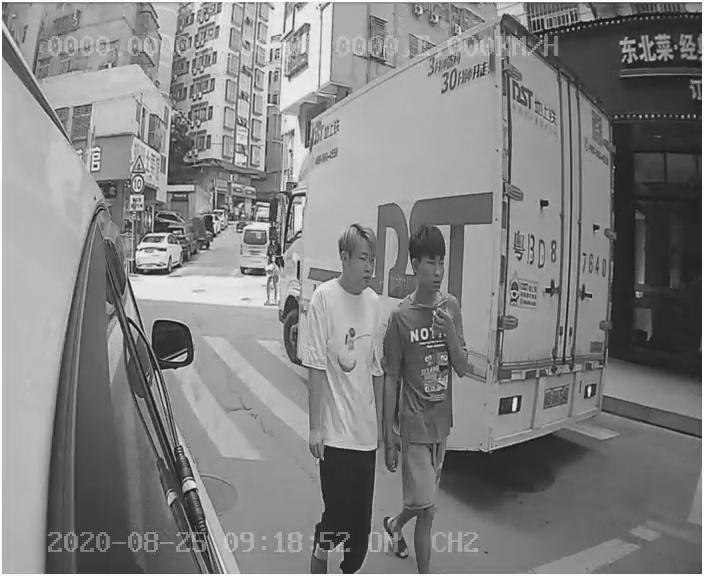person: (283, 225, 398, 542), (379, 231, 484, 550)
